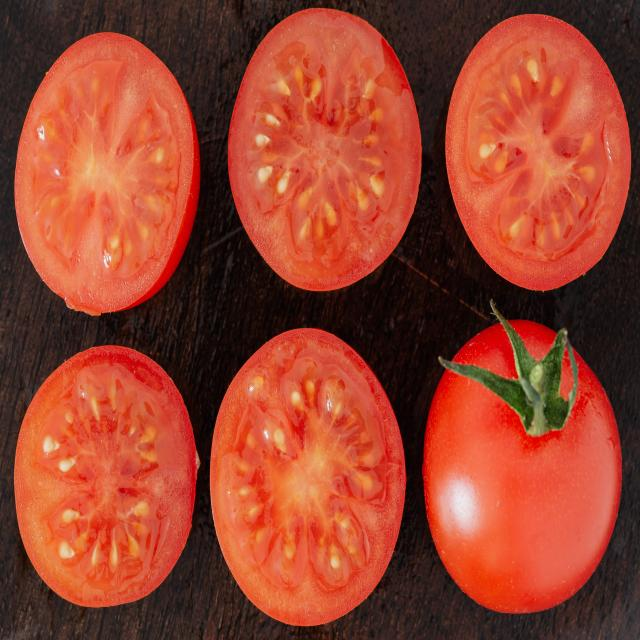Tomato: (222, 9, 418, 302), (444, 8, 633, 288), (209, 342, 399, 619), (15, 30, 191, 316), (10, 346, 194, 602)
